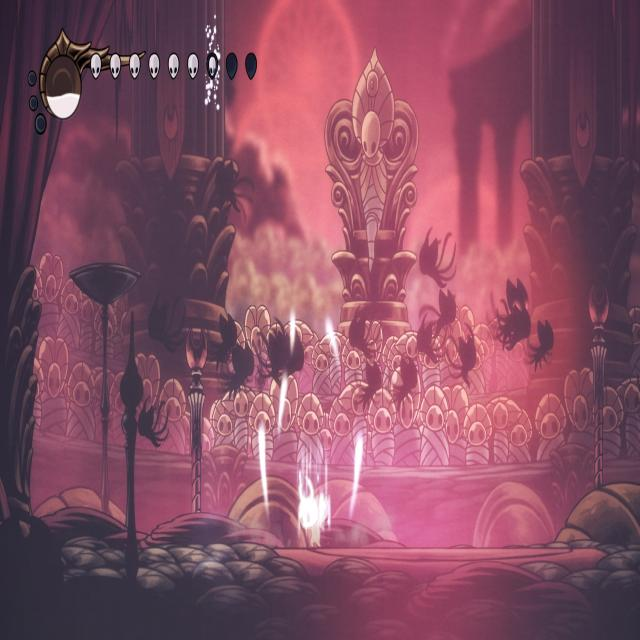Player: (294, 471, 332, 550)
Staggered_Grimm: (485, 272, 532, 354)
